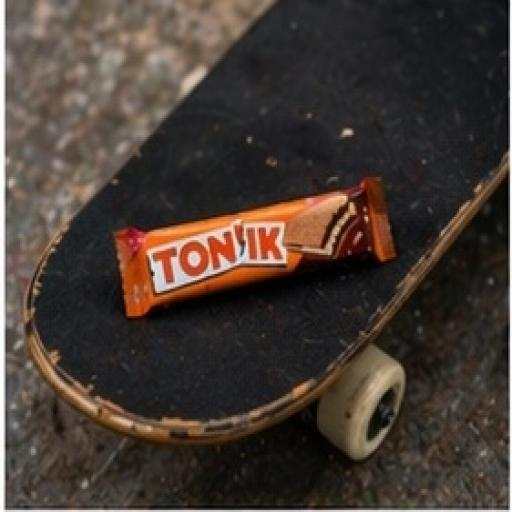tonik: (81, 142, 448, 402)
